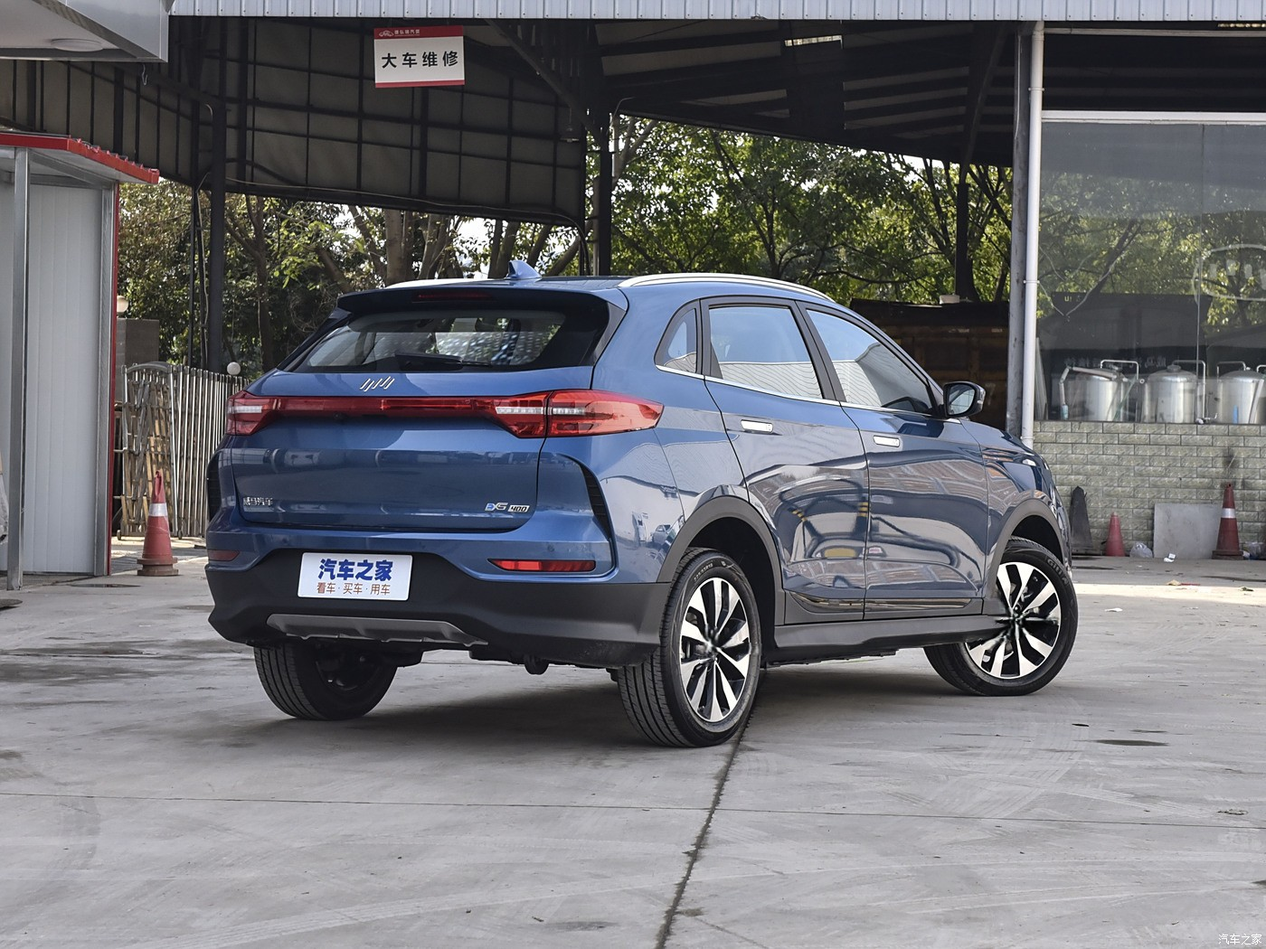WELTMEISTER: (361, 377, 394, 391)
